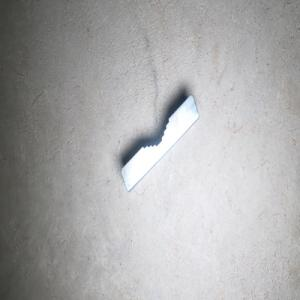ClampPart: (120, 92, 200, 193)
